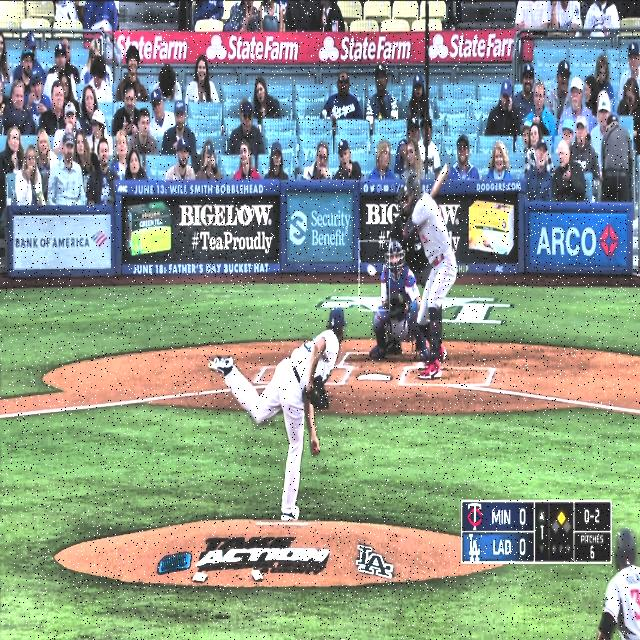baseball: (366, 262, 377, 278)
